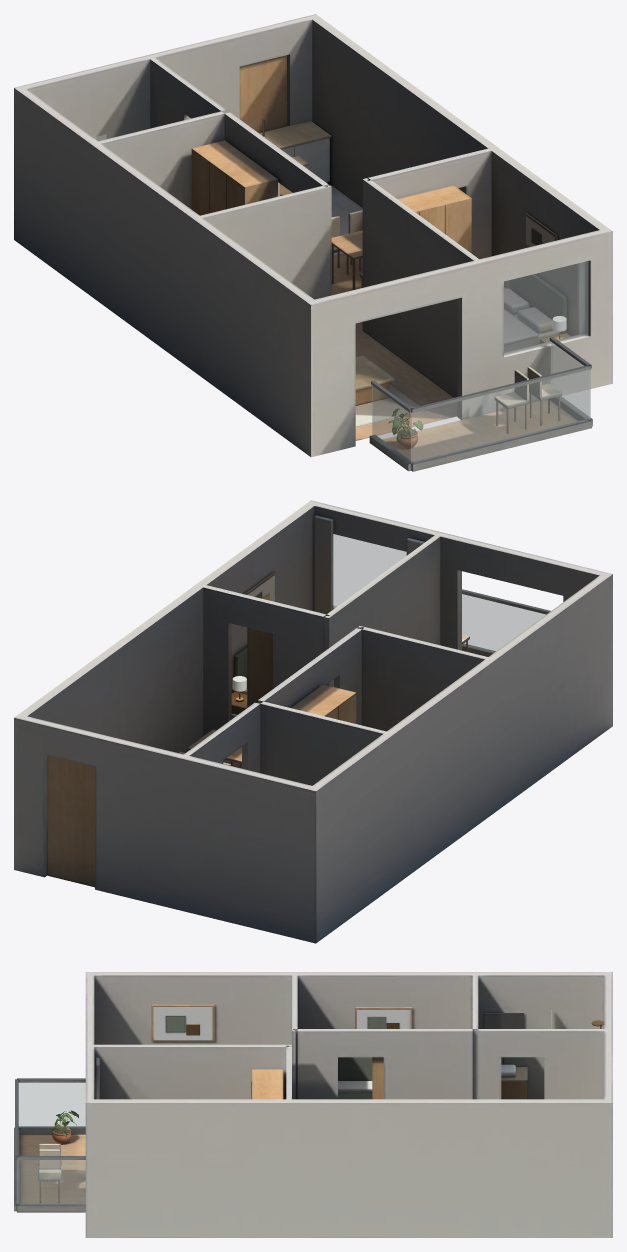
File: dos-alcobas.glb
3 renders of one model, top to bottom at view 1: azimuth 30°, elevation 25°; view 2: azimuth 150°, elevation 25°; view 3: azimuth 270°, elevation 25°, orthographic. The views are drawn at different scales.
Visible parts, largest first — view 1: horneado, Cube.012, potted_plant_02_pot; view 2: horneado, Cube.012; view 3: horneado, Cube.012, potted_plant_02_pot.
Boxes of the visible parts, x1,y1,x2,y2 form: horneado: [14, 14, 612, 471]; Cube.012: [94, 135, 590, 463]; potted_plant_02_pot: [388, 408, 423, 448]; horneado: [14, 500, 612, 943]; Cube.012: [333, 534, 545, 652]; horneado: [14, 972, 612, 1237]; Cube.012: [16, 1009, 551, 1204]; potted_plant_02_pot: [52, 1110, 78, 1144].
Bounding box in the file's own units: 5.4 × 2.6 × 10.45.
Materials: 4 (3 with a texture image).
